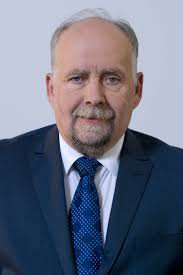noMask: (39, 12, 149, 147)
